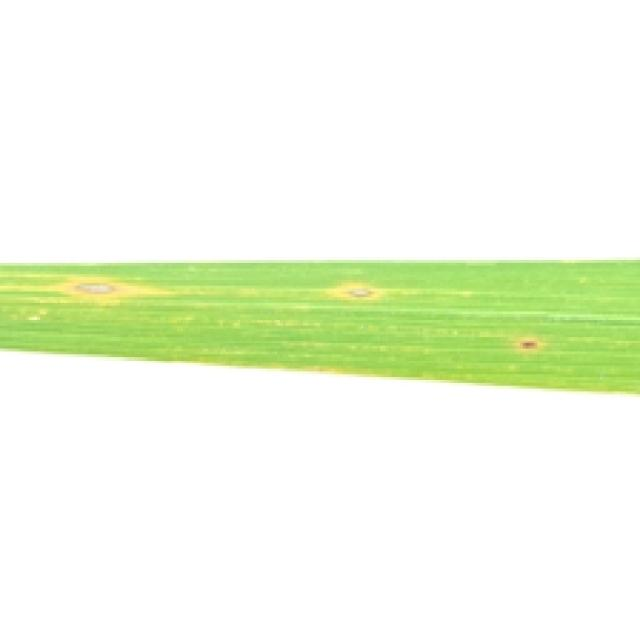Rice___Rice_Blast: (0, 260, 637, 397)
